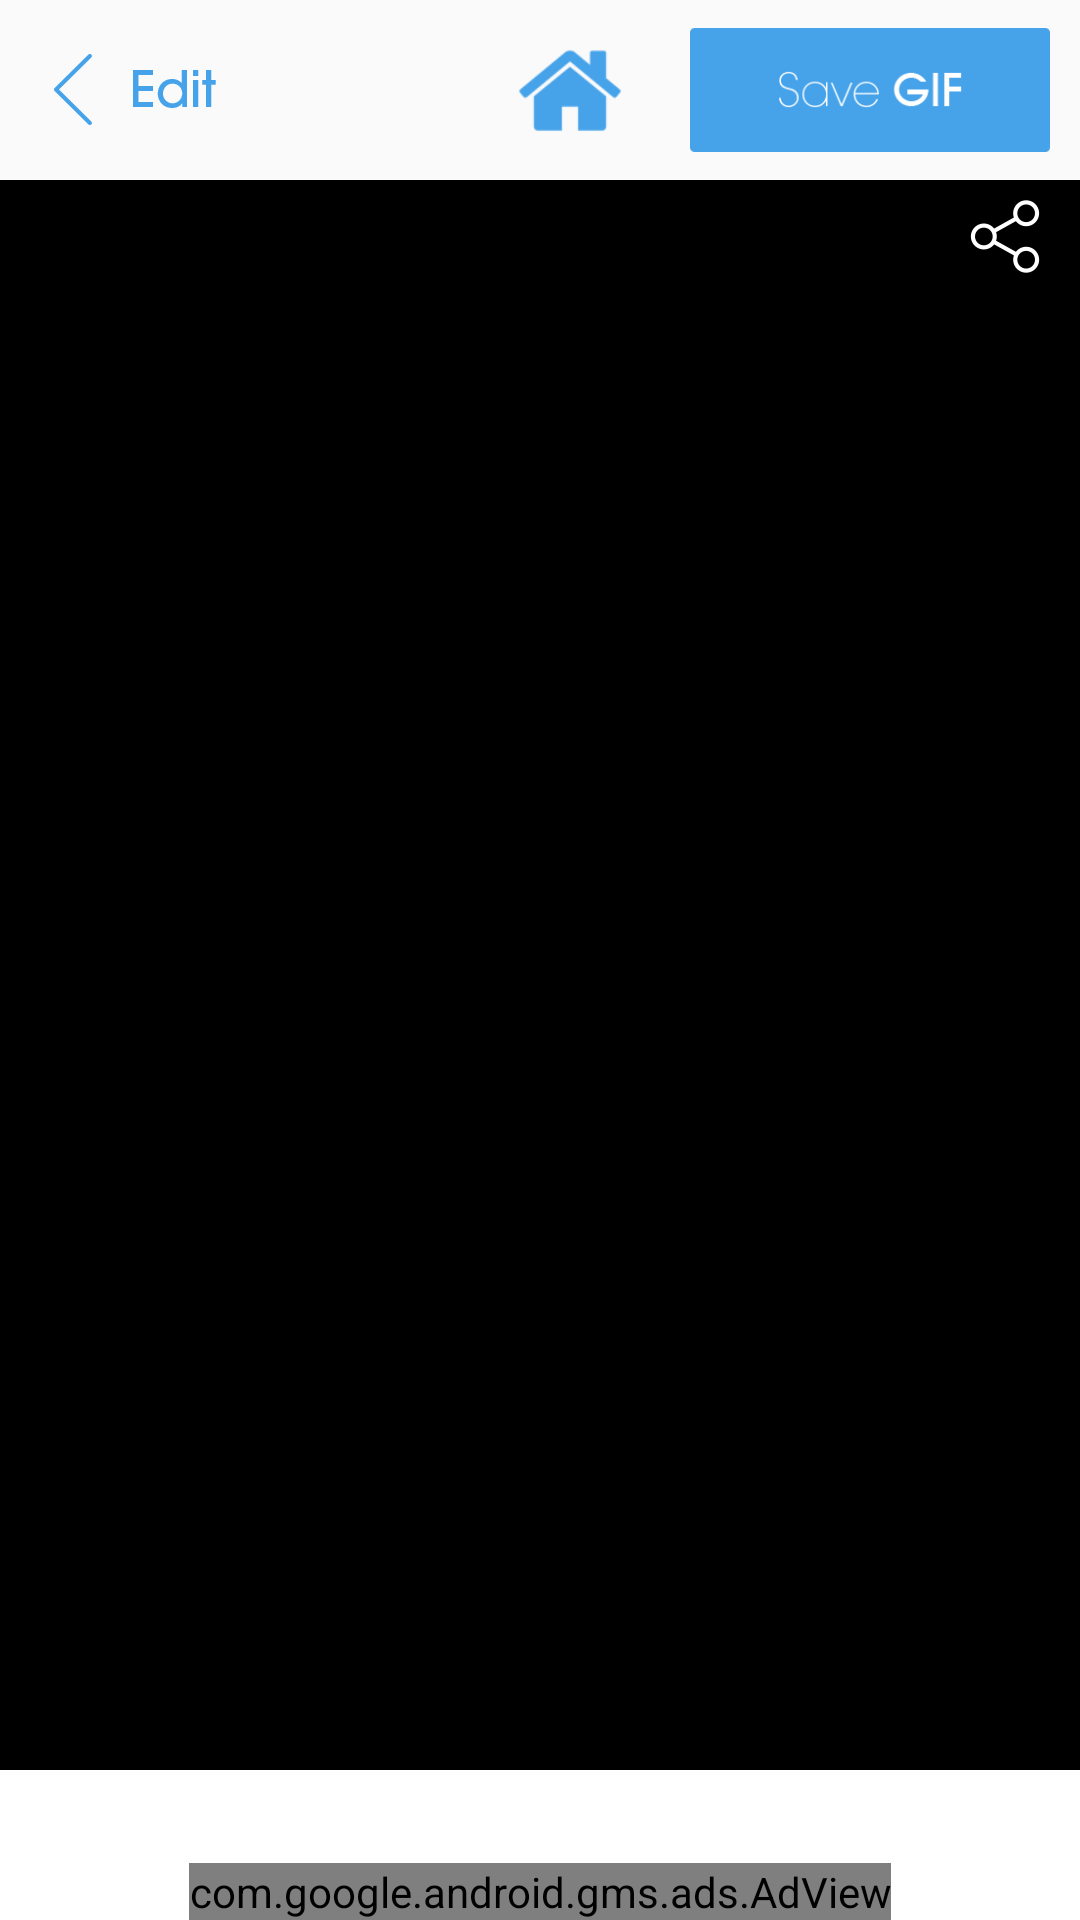

Icon bounding boxes for this 1080px x 1920px phone screenshot, format box(x1, y1, x2, y2):
home: box(519, 50, 621, 131)
share: box(970, 200, 1040, 273)
